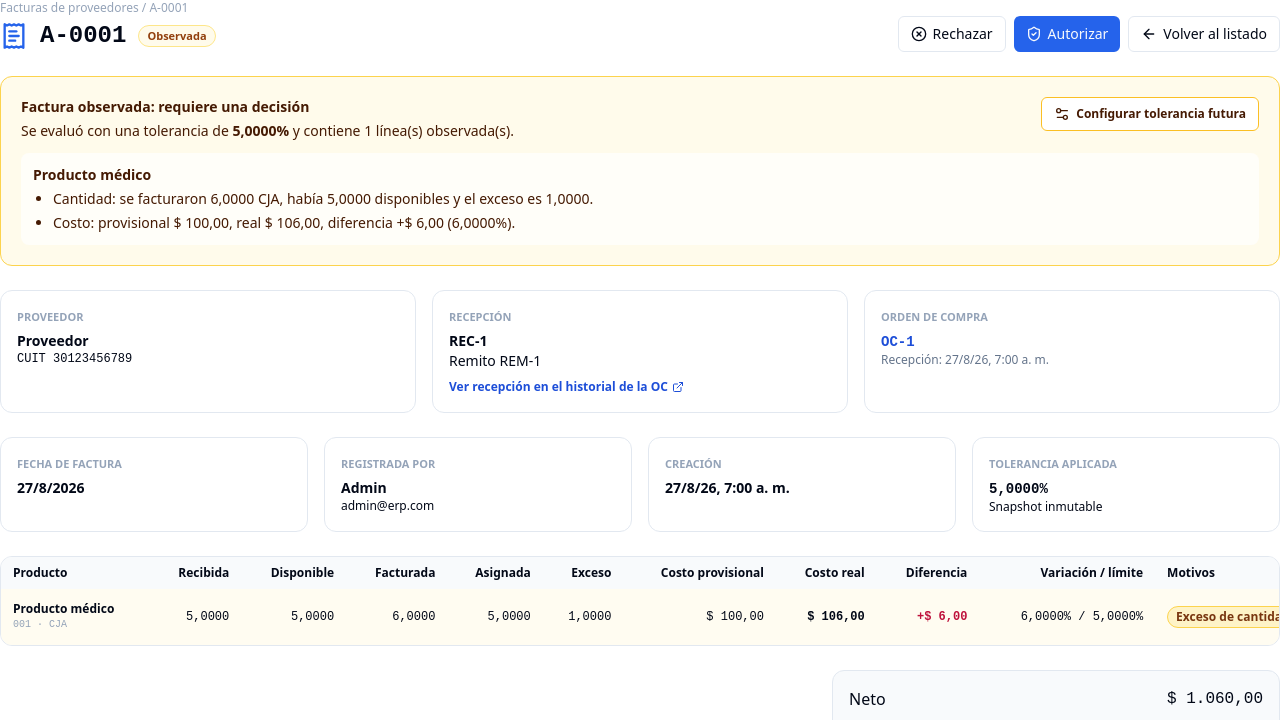
Scenario: SupplierInvoiceDetailPage observed workflow › closes the modal and refreshes authoritative state after a concurrent decision
The width and height of the screenshot is (1280, 720).
Click the button "Rechazar": {"x": 952, "y": 34} [898,16,1006,52]
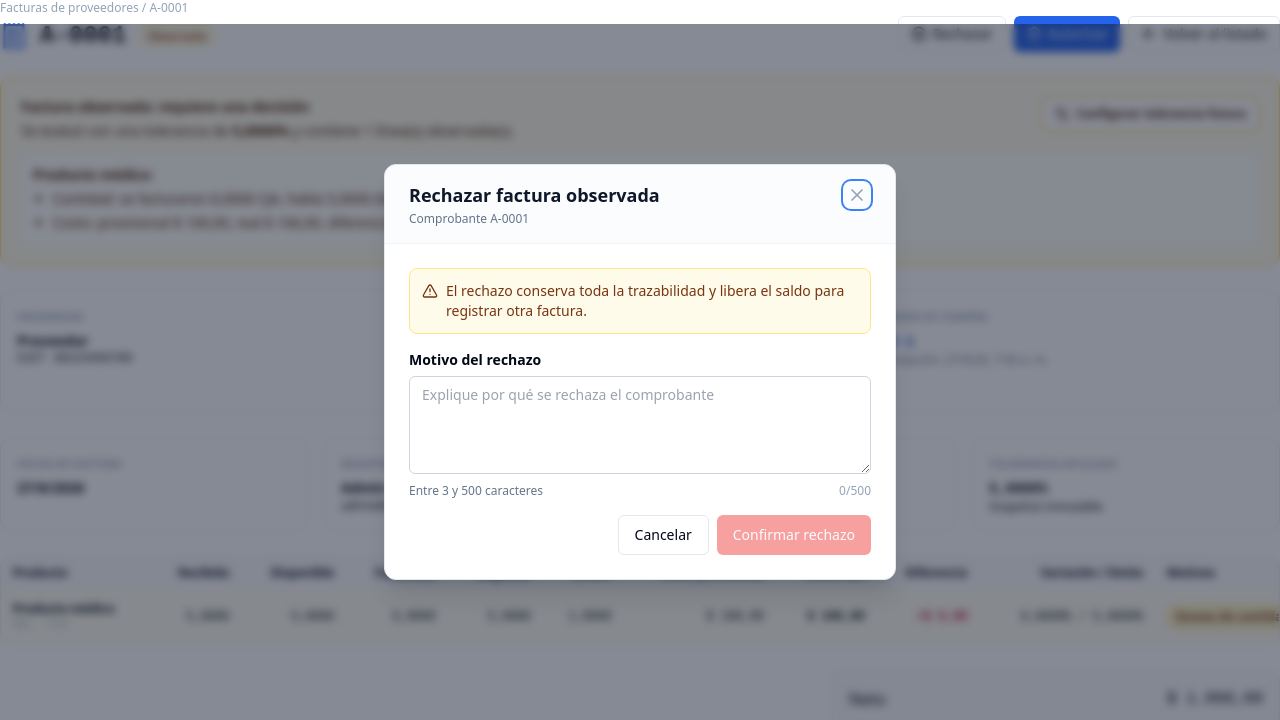
In the text box labelled "Motivo del rechazo": {"x": 640, "y": 425} [409,376,871,474], type "Ya fue revisada"
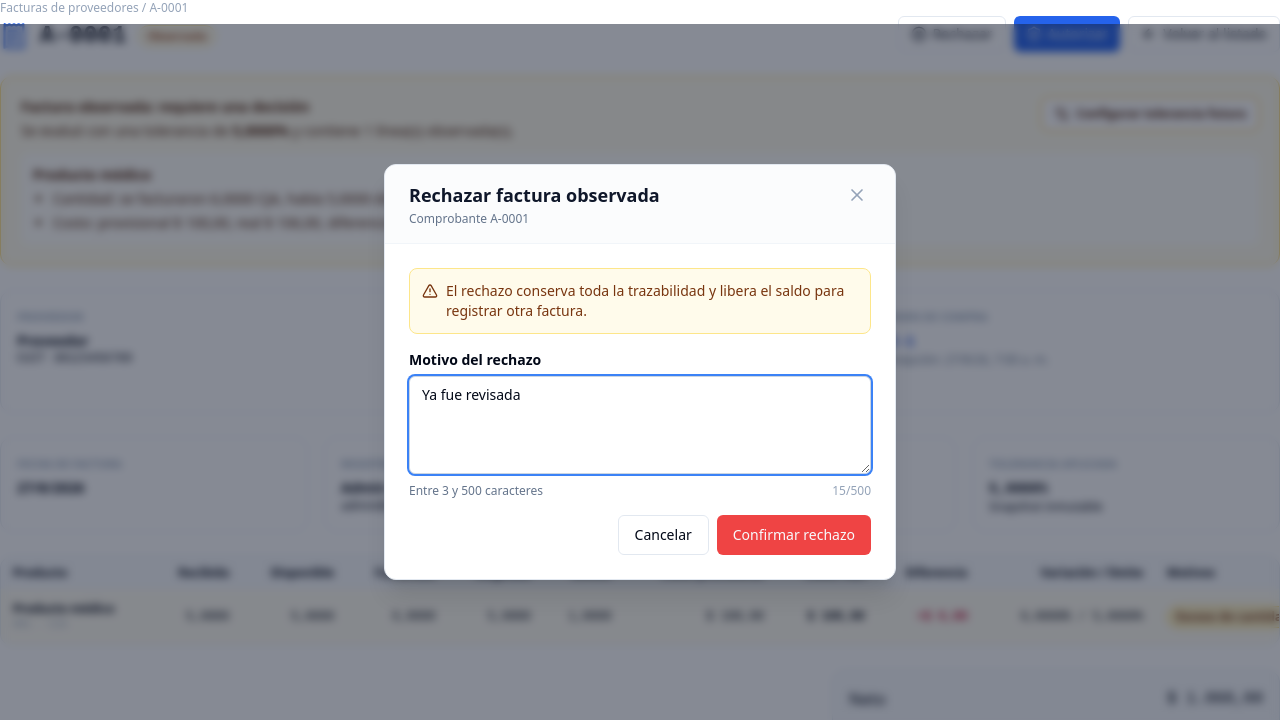
Click the button "Confirmar rechazo": {"x": 794, "y": 535} [717,515,871,555]
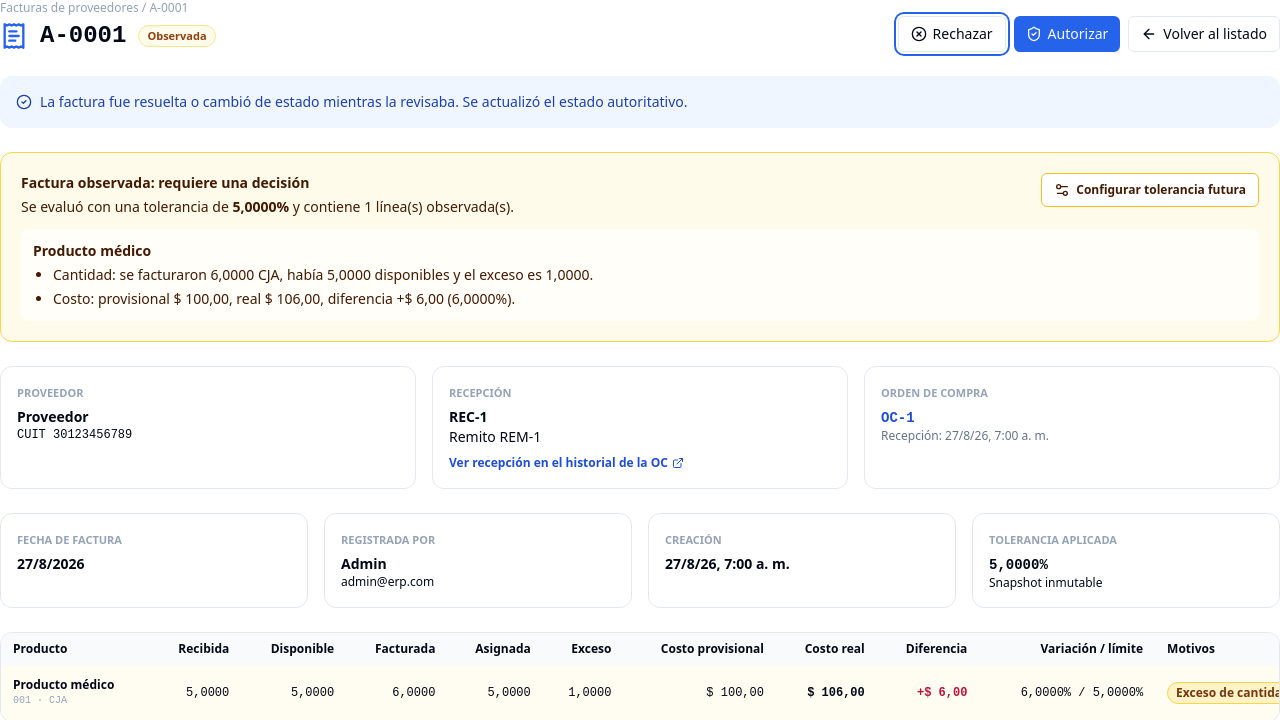
Expected: the 1st message shows "estado autoritativo", [40,92,688,111]
Expected: the dialog is gone
